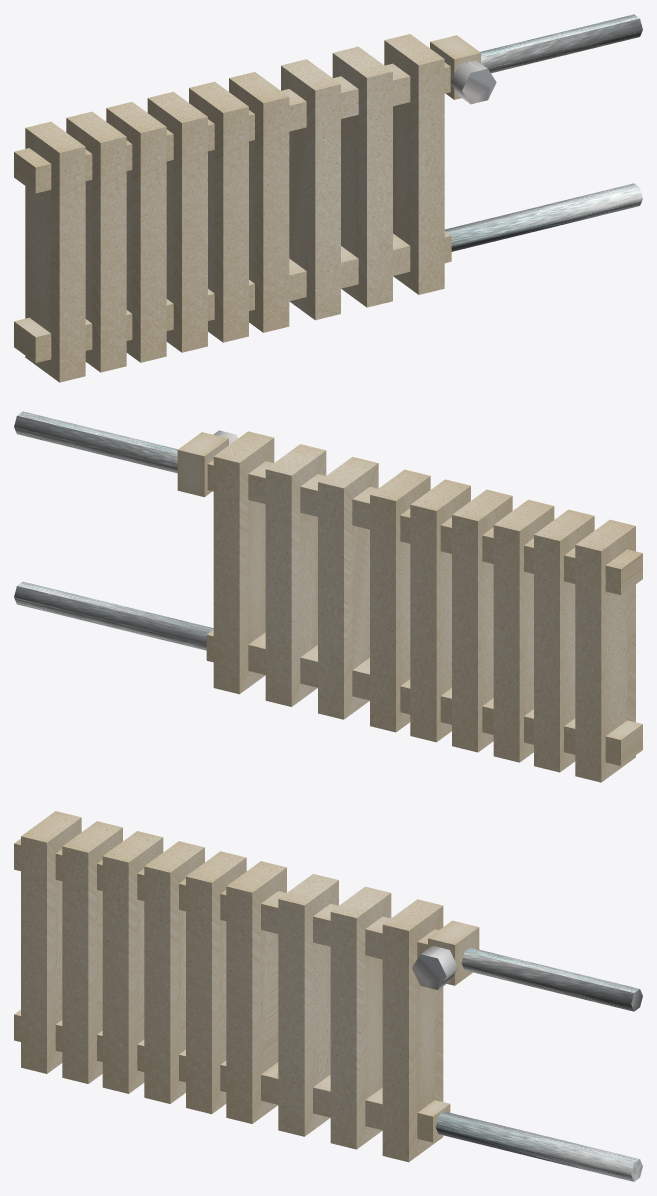
File: radiator1.FBX
The picture shows the model from 3 angles, top to bottom: view 1: azimuth 30°, elevation 25°; view 2: azimuth 150°, elevation 25°; view 3: azimuth 330°, elevation 25°; orthographic projection.
Visible parts, largest first — view 1: Box001, Object005, Object002, Object004, Object001, Object003, Cylinder003, Cylinder004; view 2: Box001, Object005, Object002, Object001, Object004, Object003, Cylinder003; view 3: Box001, Object003, Object002, Object005, Object001, Object004, Cylinder003, Cylinder004.
Part boxes in pixels (<box>): Box001: <box>229,34,480,332</box>; Object005: <box>14,121,85,382</box>; Object002: <box>147,91,207,352</box>; Object004: <box>66,111,126,372</box>; Object001: <box>189,81,248,342</box>; Object003: <box>106,102,166,362</box>; Cylinder003: <box>444,14,642,251</box>; Cylinder004: <box>450,60,496,104</box>; Box001: <box>177,431,430,732</box>; Object005: <box>575,519,642,782</box>; Object002: <box>452,489,512,752</box>; Object001: <box>410,479,470,742</box>; Object004: <box>534,509,594,772</box>; Object003: <box>493,499,554,762</box>; Cylinder003: <box>14,411,213,650</box>; Box001: <box>220,861,479,1162</box>; Object003: <box>97,831,163,1093</box>; Object002: <box>137,841,204,1103</box>; Object005: <box>14,811,81,1073</box>; Object001: <box>179,851,246,1114</box>; Object004: <box>55,821,122,1083</box>; Cylinder003: <box>435,947,642,1181</box>; Cylinder004: <box>412,945,458,989</box>.
Size of the model in its own units: 561 by 202 by 66.21.
3 materials, 3 textured.
